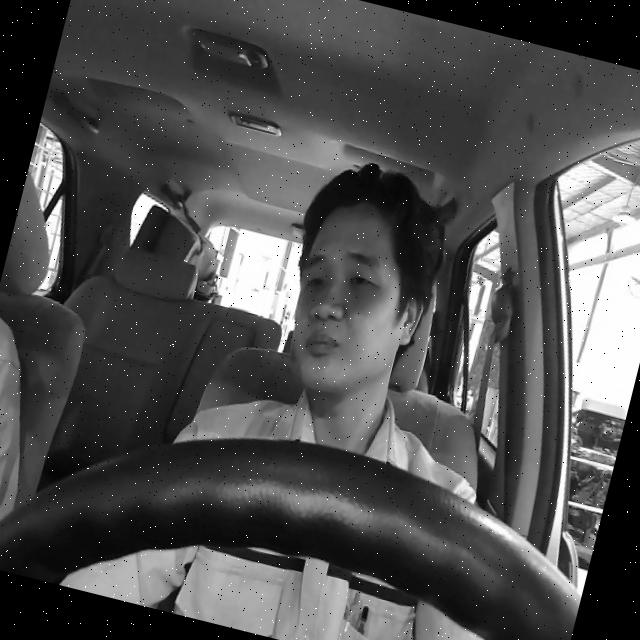seeing_left: (272, 185, 444, 409)
